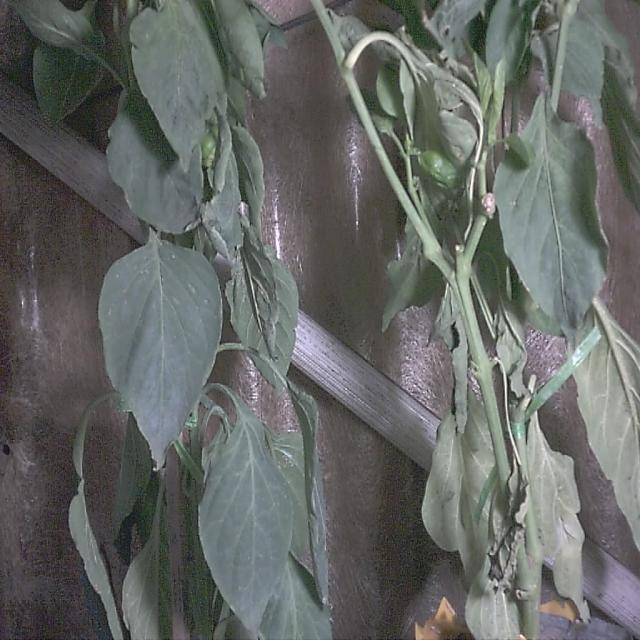Leaf: (99, 234, 222, 467), (494, 95, 607, 335), (199, 389, 293, 634), (130, 0, 224, 171), (574, 302, 639, 548), (107, 91, 203, 233)
